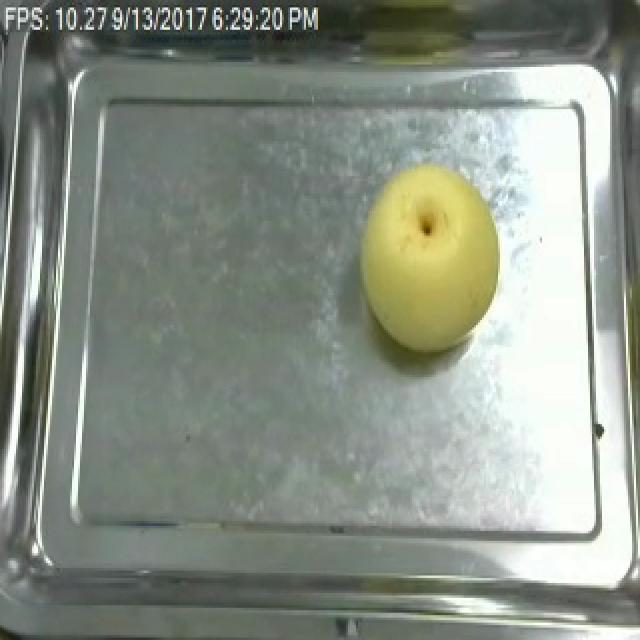Fruit: (350, 154, 508, 357)
